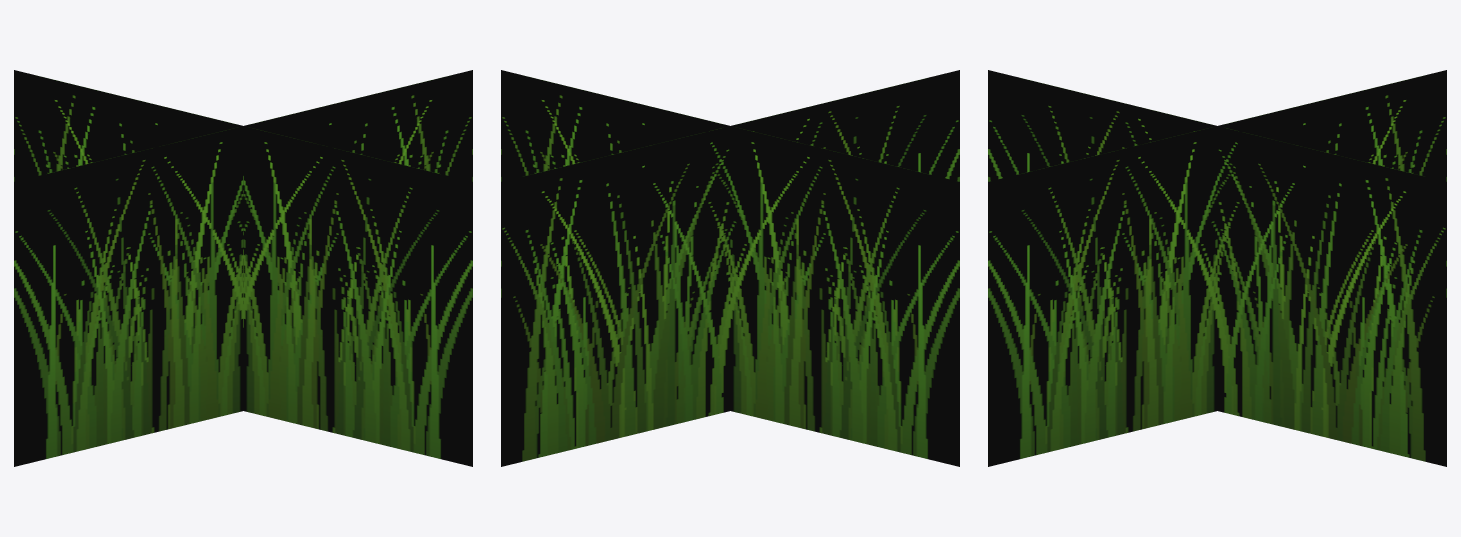
File: grass_clump.glb
The picture shows the model from 3 angles, left to right: view 1: azimuth 30°, elevation 25°; view 2: azimuth 150°, elevation 25°; view 3: azimuth 270°, elevation 25°; orthographic projection.
Visible parts, largest first — view 1: grass_clump; view 2: grass_clump; view 3: grass_clump.
Boxes of the visible parts, bbox=[...] form: grass_clump: bbox=[14, 70, 472, 466]; grass_clump: bbox=[501, 70, 959, 466]; grass_clump: bbox=[988, 70, 1446, 466].
Bounding box in the file's own units: 0.64 × 0.38 × 0.5543.
Materials: 1 (1 with a texture image).
